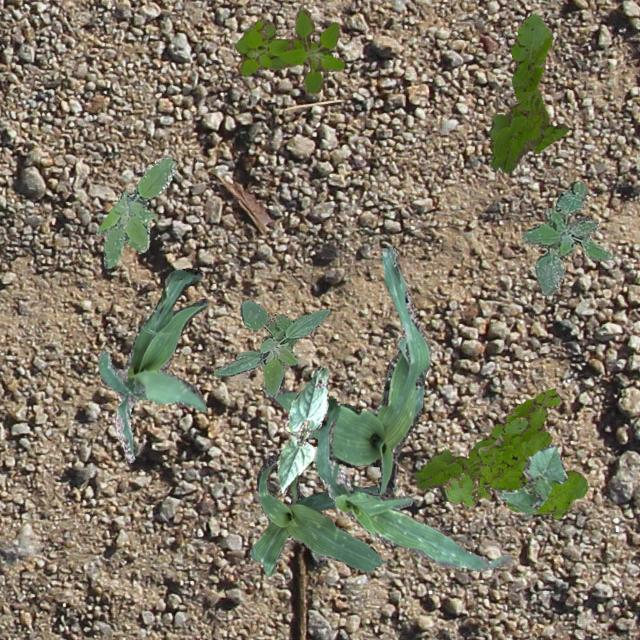crop: (262, 247, 430, 496), (314, 397, 510, 570), (96, 266, 208, 462), (248, 452, 388, 576), (274, 364, 326, 492), (496, 443, 566, 512)
weed: (438, 388, 586, 518), (488, 12, 568, 172), (212, 300, 330, 396), (520, 180, 610, 296), (234, 8, 344, 92), (94, 156, 176, 268), (412, 418, 528, 494)
